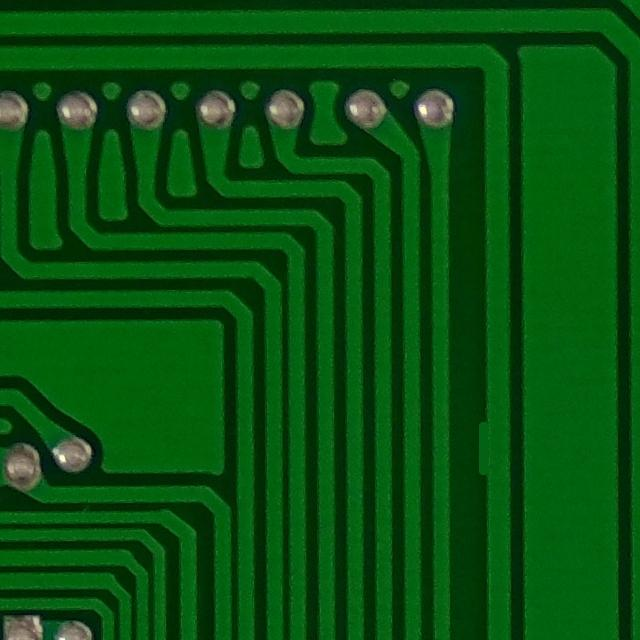spur: (468, 407, 512, 492)
